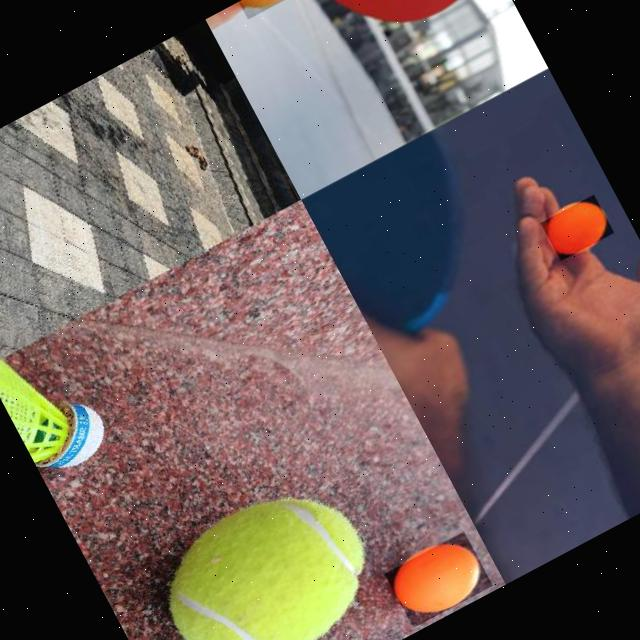ping-pong-ball: (382, 530, 492, 628), (538, 194, 613, 262), (235, 0, 308, 20)
